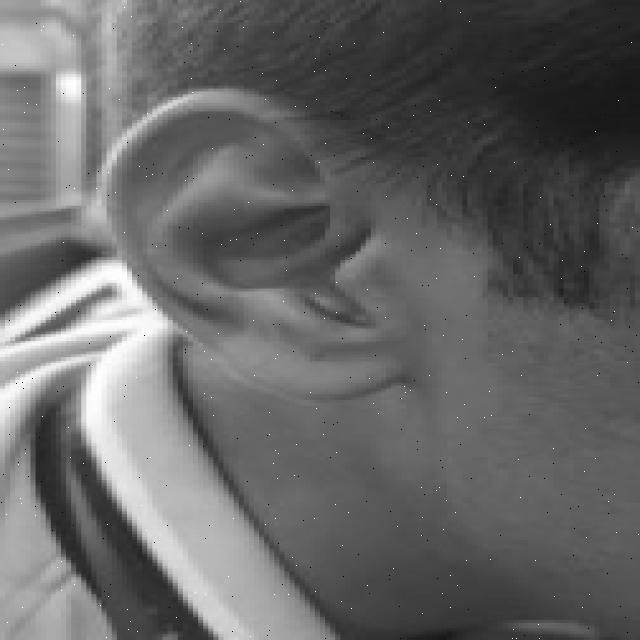ear: (107, 91, 386, 397)
